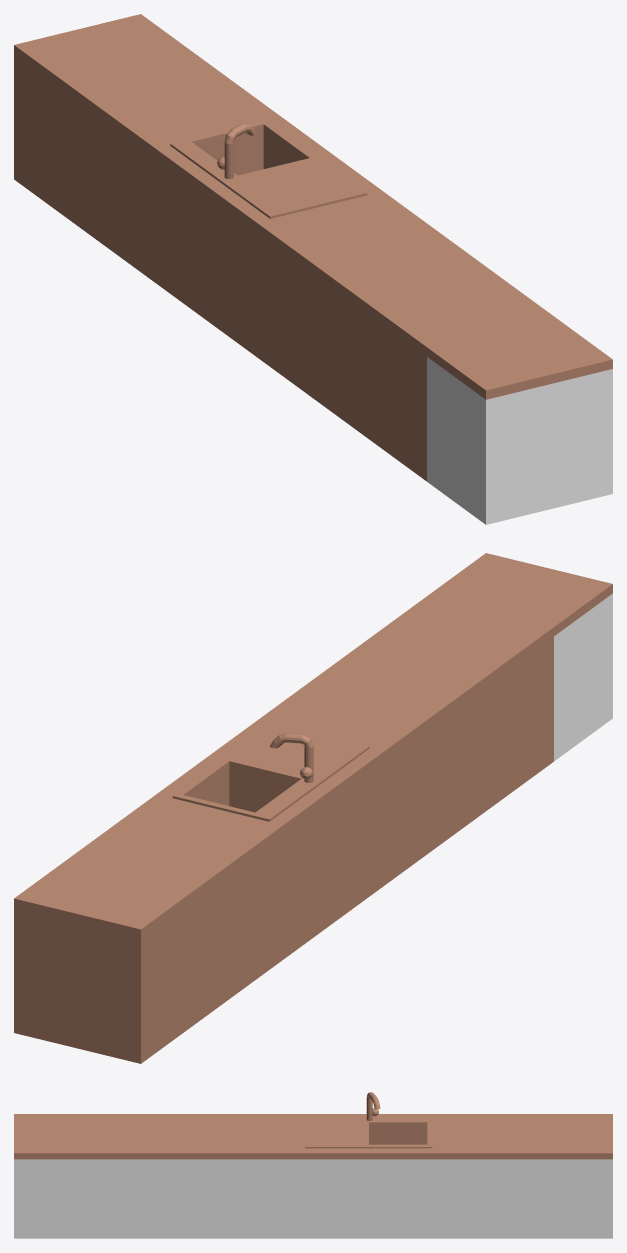
The model's file is PlanDeTravailEvier.fbx.
3 renders of one model, top to bottom at view 1: azimuth 30°, elevation 25°; view 2: azimuth 150°, elevation 25°; view 3: azimuth 270°, elevation 25°, orthographic. The views are drawn at different scales.
Parts seen in each view (by area): view 1: Cube.059; view 2: Cube.059; view 3: Cube.059.
Part boxes in pixels (x1=…): Cube.059: x1=14, y1=14, x2=612, y2=524; Cube.059: x1=14, y1=553, x2=612, y2=1063; Cube.059: x1=14, y1=1092, x2=612, y2=1238.
Bounding box in the file's own units: 231 × 318 × 1487.
